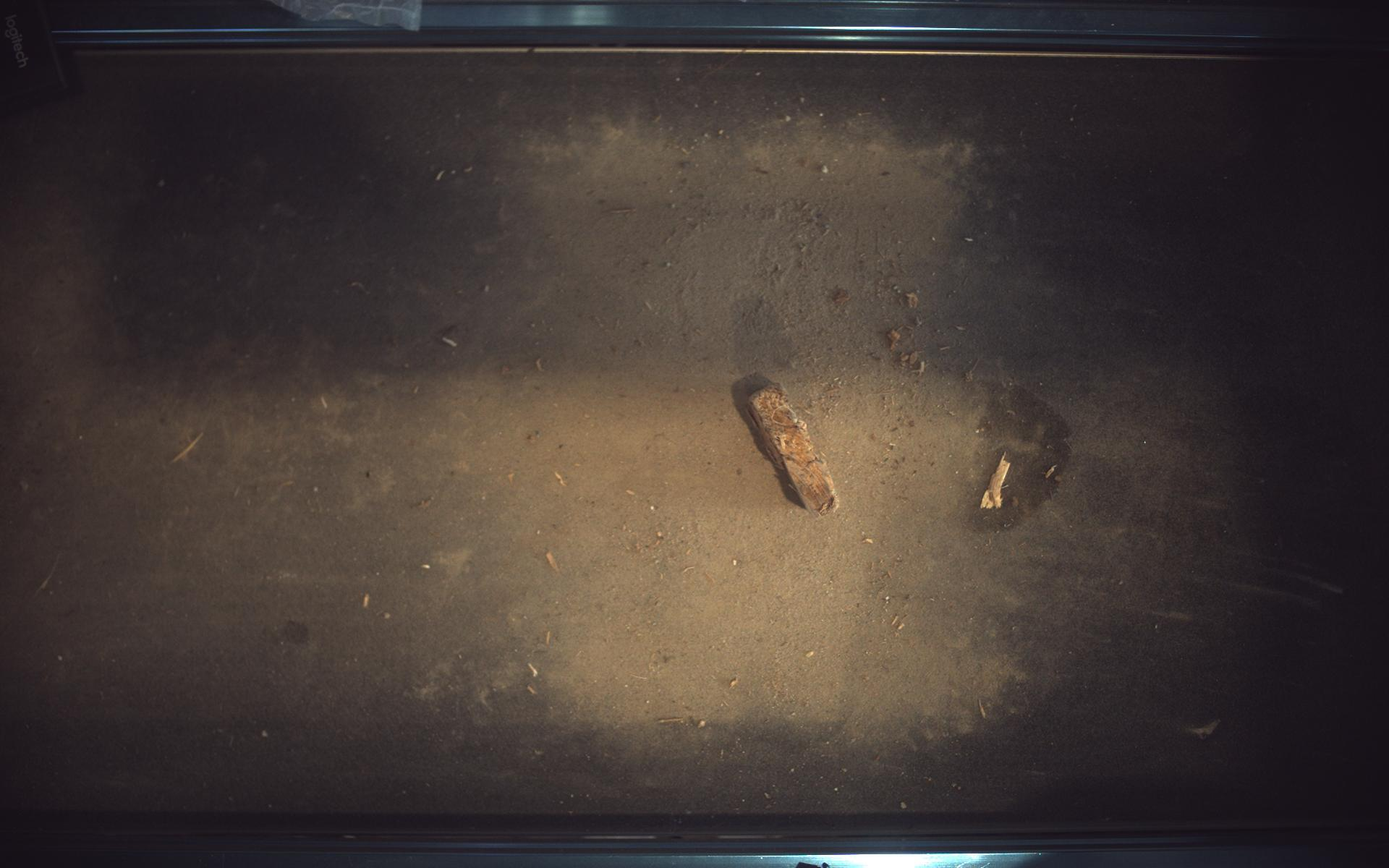wood: (749, 384, 841, 514)
